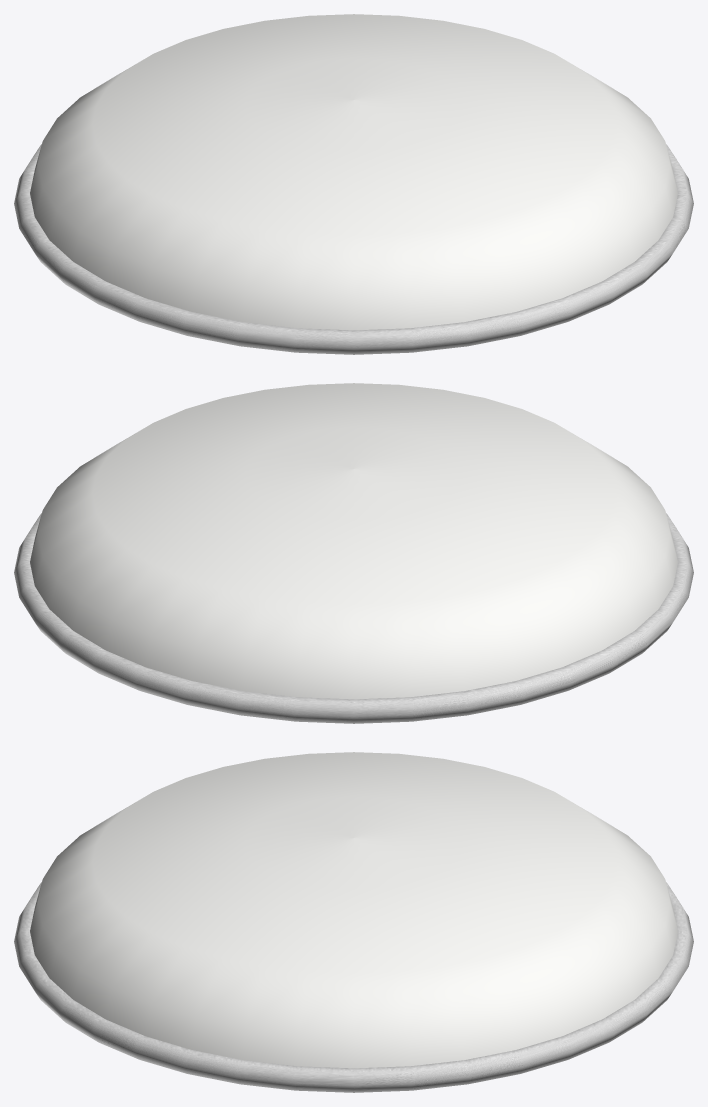
File: ceiling_lamp.glb
3 renders of one model, top to bottom at view 1: azimuth 30°, elevation 25°; view 2: azimuth 150°, elevation 25°; view 3: azimuth 270°, elevation 25°, orthographic.
Parts seen in each view (by area): view 1: ceiling_lamp_body; view 2: ceiling_lamp_body; view 3: ceiling_lamp_body.
Part boxes in pixels (box(x1,y1,x2,y2)): ceiling_lamp_body: box(14, 14, 693, 354); ceiling_lamp_body: box(14, 383, 693, 723); ceiling_lamp_body: box(14, 752, 693, 1092).
Bounding box in the file's own units: 0.624 × 0.1554 × 0.624.
3 materials, 1 textured.
